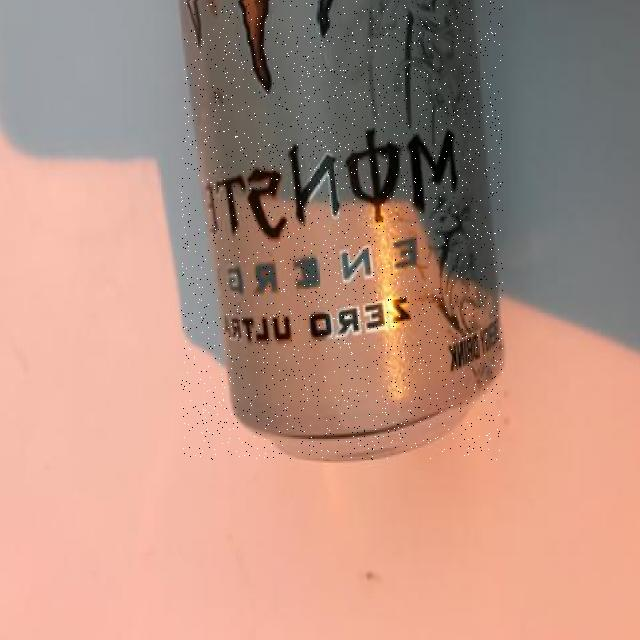metal: (181, 1, 503, 460)
